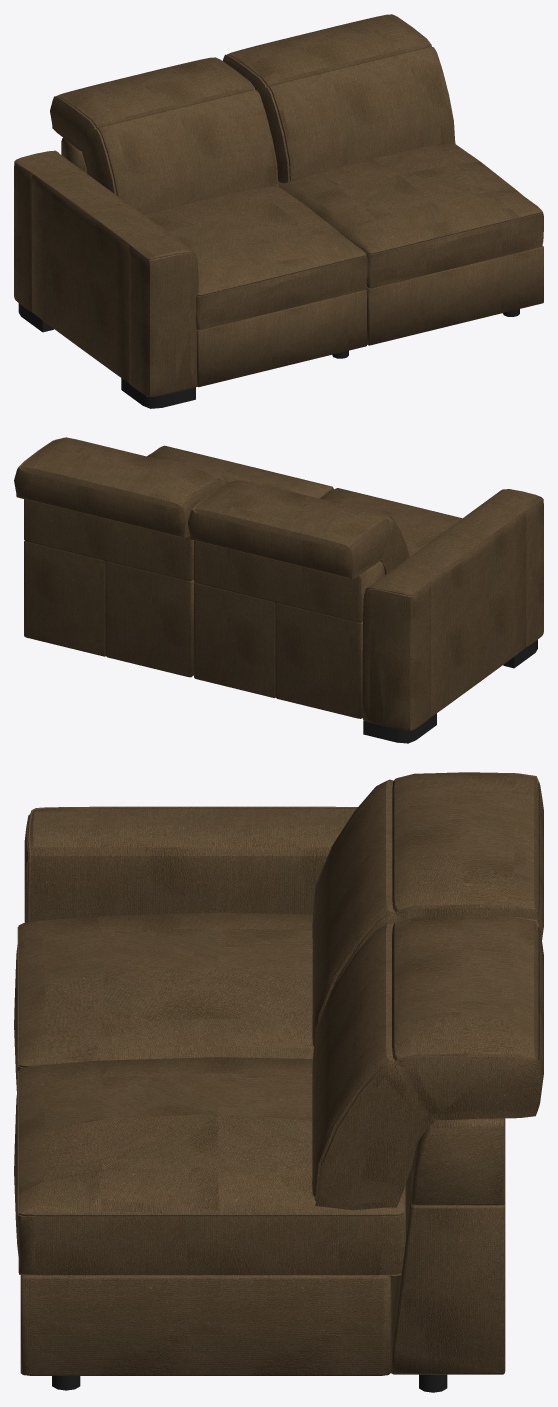
Rendered from Sofa_2.obj.
3 views of the same model, one above another, from view 1: azimuth 30°, elevation 25°; view 2: azimuth 150°, elevation 25°; view 3: azimuth 270°, elevation 25° (orthographic). The views are drawn at different scales.
Parts seen in each view (by area): view 1: Mesh9 Group9 Component_11_1 Model, Mesh13 Group13 Component_11_1 Model, Mesh12 Group12 Component_11_1 Model, Mesh14 Group14 Component_11_1 Model, Mesh15 Group15 Component_11_1 Model, Mesh11 Group11 Component_11_1 Model, Mesh16 Group16 Component_11_1 Model, Mesh6 Group6 Component_11_1 Model, Mesh8 Group8 Component_11_1 Model; view 2: Mesh9 Group9 Component_11_1 Model, Mesh2 Group2 Component_11_1 Model, Mesh5 Group5 Component_11_1 Model, Mesh12 Group12 Component_11_1 Model, Mesh13 Group13 Component_11_1 Model, Mesh15 Group15 Component_11_1 Model, Mesh14 Group14 Component_11_1 Model, Mesh1 Group1 Component_11_1 Model, Mesh8 Group8 Component_11_1 Model; view 3: Mesh14 Group14 Component_11_1 Model, Mesh13 Group13 Component_11_1 Model, Mesh15 Group15 Component_11_1 Model, Mesh11 Group11 Component_11_1 Model, Mesh12 Group12 Component_11_1 Model, Mesh9 Group9 Component_11_1 Model, Mesh5 Group5 Component_11_1 Model, Mesh8 Group8 Component_11_1 Model.
Part boxes in pixels (x1,y1,x2,y2): Mesh9 Group9 Component_11_1 Model: (14,151,197,396); Mesh13 Group13 Component_11_1 Model: (223,14,455,183); Mesh12 Group12 Component_11_1 Model: (50,57,278,215); Mesh14 Group14 Component_11_1 Model: (278,142,543,289); Mesh15 Group15 Component_11_1 Model: (144,185,367,330); Mesh11 Group11 Component_11_1 Model: (366,245,543,345); Mesh16 Group16 Component_11_1 Model: (197,289,366,387); Mesh6 Group6 Component_11_1 Model: (121,378,195,408); Mesh8 Group8 Component_11_1 Model: (14,150,198,291); Mesh9 Group9 Component_11_1 Model: (362,489,543,730); Mesh2 Group2 Component_11_1 Model: (194,540,384,718); Mesh5 Group5 Component_11_1 Model: (24,499,194,677); Mesh12 Group12 Component_11_1 Model: (188,479,409,579); Mesh13 Group13 Component_11_1 Model: (14,437,228,538); Mesh15 Group15 Component_11_1 Model: (320,488,461,556); Mesh14 Group14 Component_11_1 Model: (147,445,333,498); Mesh1 Group1 Component_11_1 Model: (363,713,436,743); Mesh8 Group8 Component_11_1 Model: (365,489,543,595); Mesh14 Group14 Component_11_1 Model: (14,1057,405,1276); Mesh13 Group13 Component_11_1 Model: (312,916,543,1210); Mesh15 Group15 Component_11_1 Model: (14,912,313,1091); Mesh11 Group11 Component_11_1 Model: (20,1275,390,1375); Mesh12 Group12 Component_11_1 Model: (312,772,543,1046); Mesh9 Group9 Component_11_1 Model: (24,807,356,922); Mesh5 Group5 Component_11_1 Model: (390,1118,505,1374); Mesh8 Group8 Component_11_1 Model: (27,806,357,922).
Size of the model in its own units: 1.55 by 0.7702 by 1.05.
2 materials, 1 textured.
